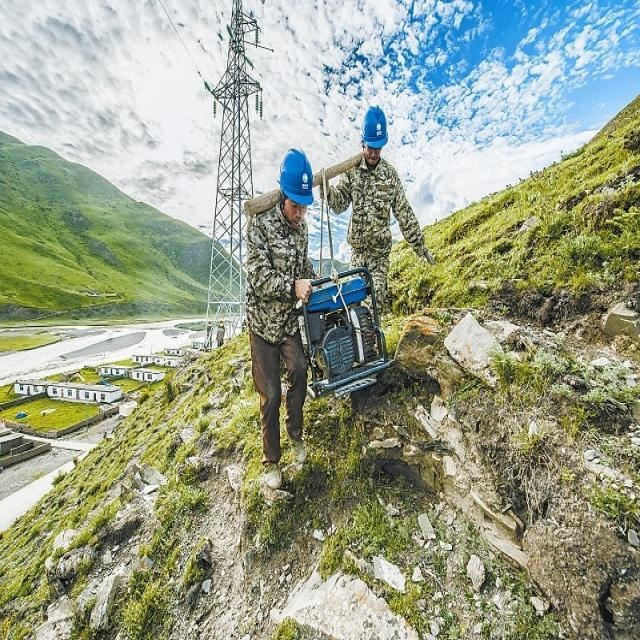Con_Casco: (278, 146, 314, 217), (361, 104, 388, 161)
